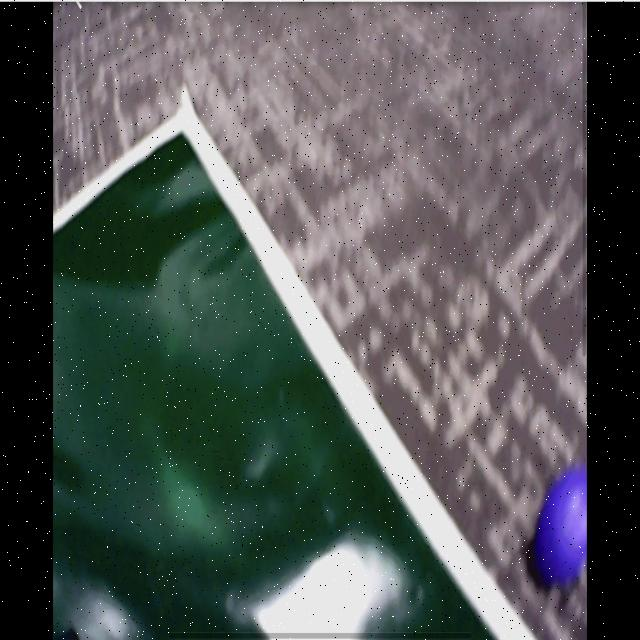ball: (535, 469, 587, 587)
